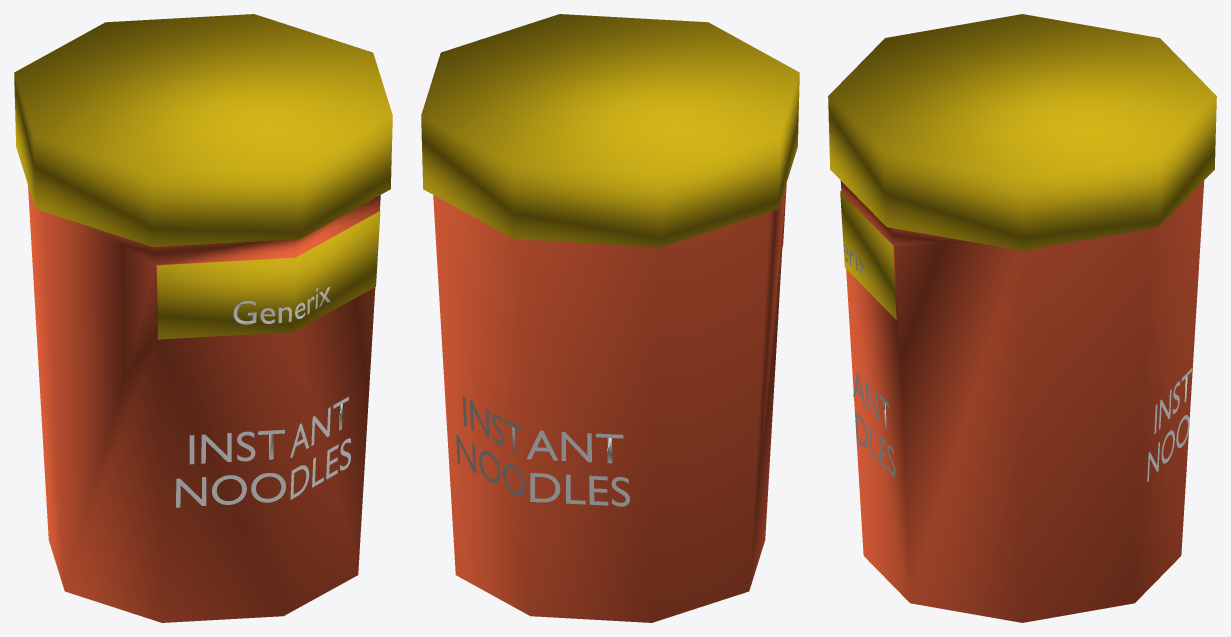
The model's file is Noodles.glb.
3 views of the same model, side by side, from view 1: azimuth 30°, elevation 25°; view 2: azimuth 150°, elevation 25°; view 3: azimuth 270°, elevation 25° (orthographic).
Visible parts, largest first — view 1: Noodles; view 2: Noodles; view 3: Noodles.
Part boxes in pixels (left/top/right/bottom): Noodles: left=14, top=14, right=392, bottom=622; Noodles: left=421, top=14, right=799, bottom=622; Noodles: left=828, top=14, right=1216, bottom=622.
Bounding box in the file's own units: 2.2 × 2.87 × 2.2.
